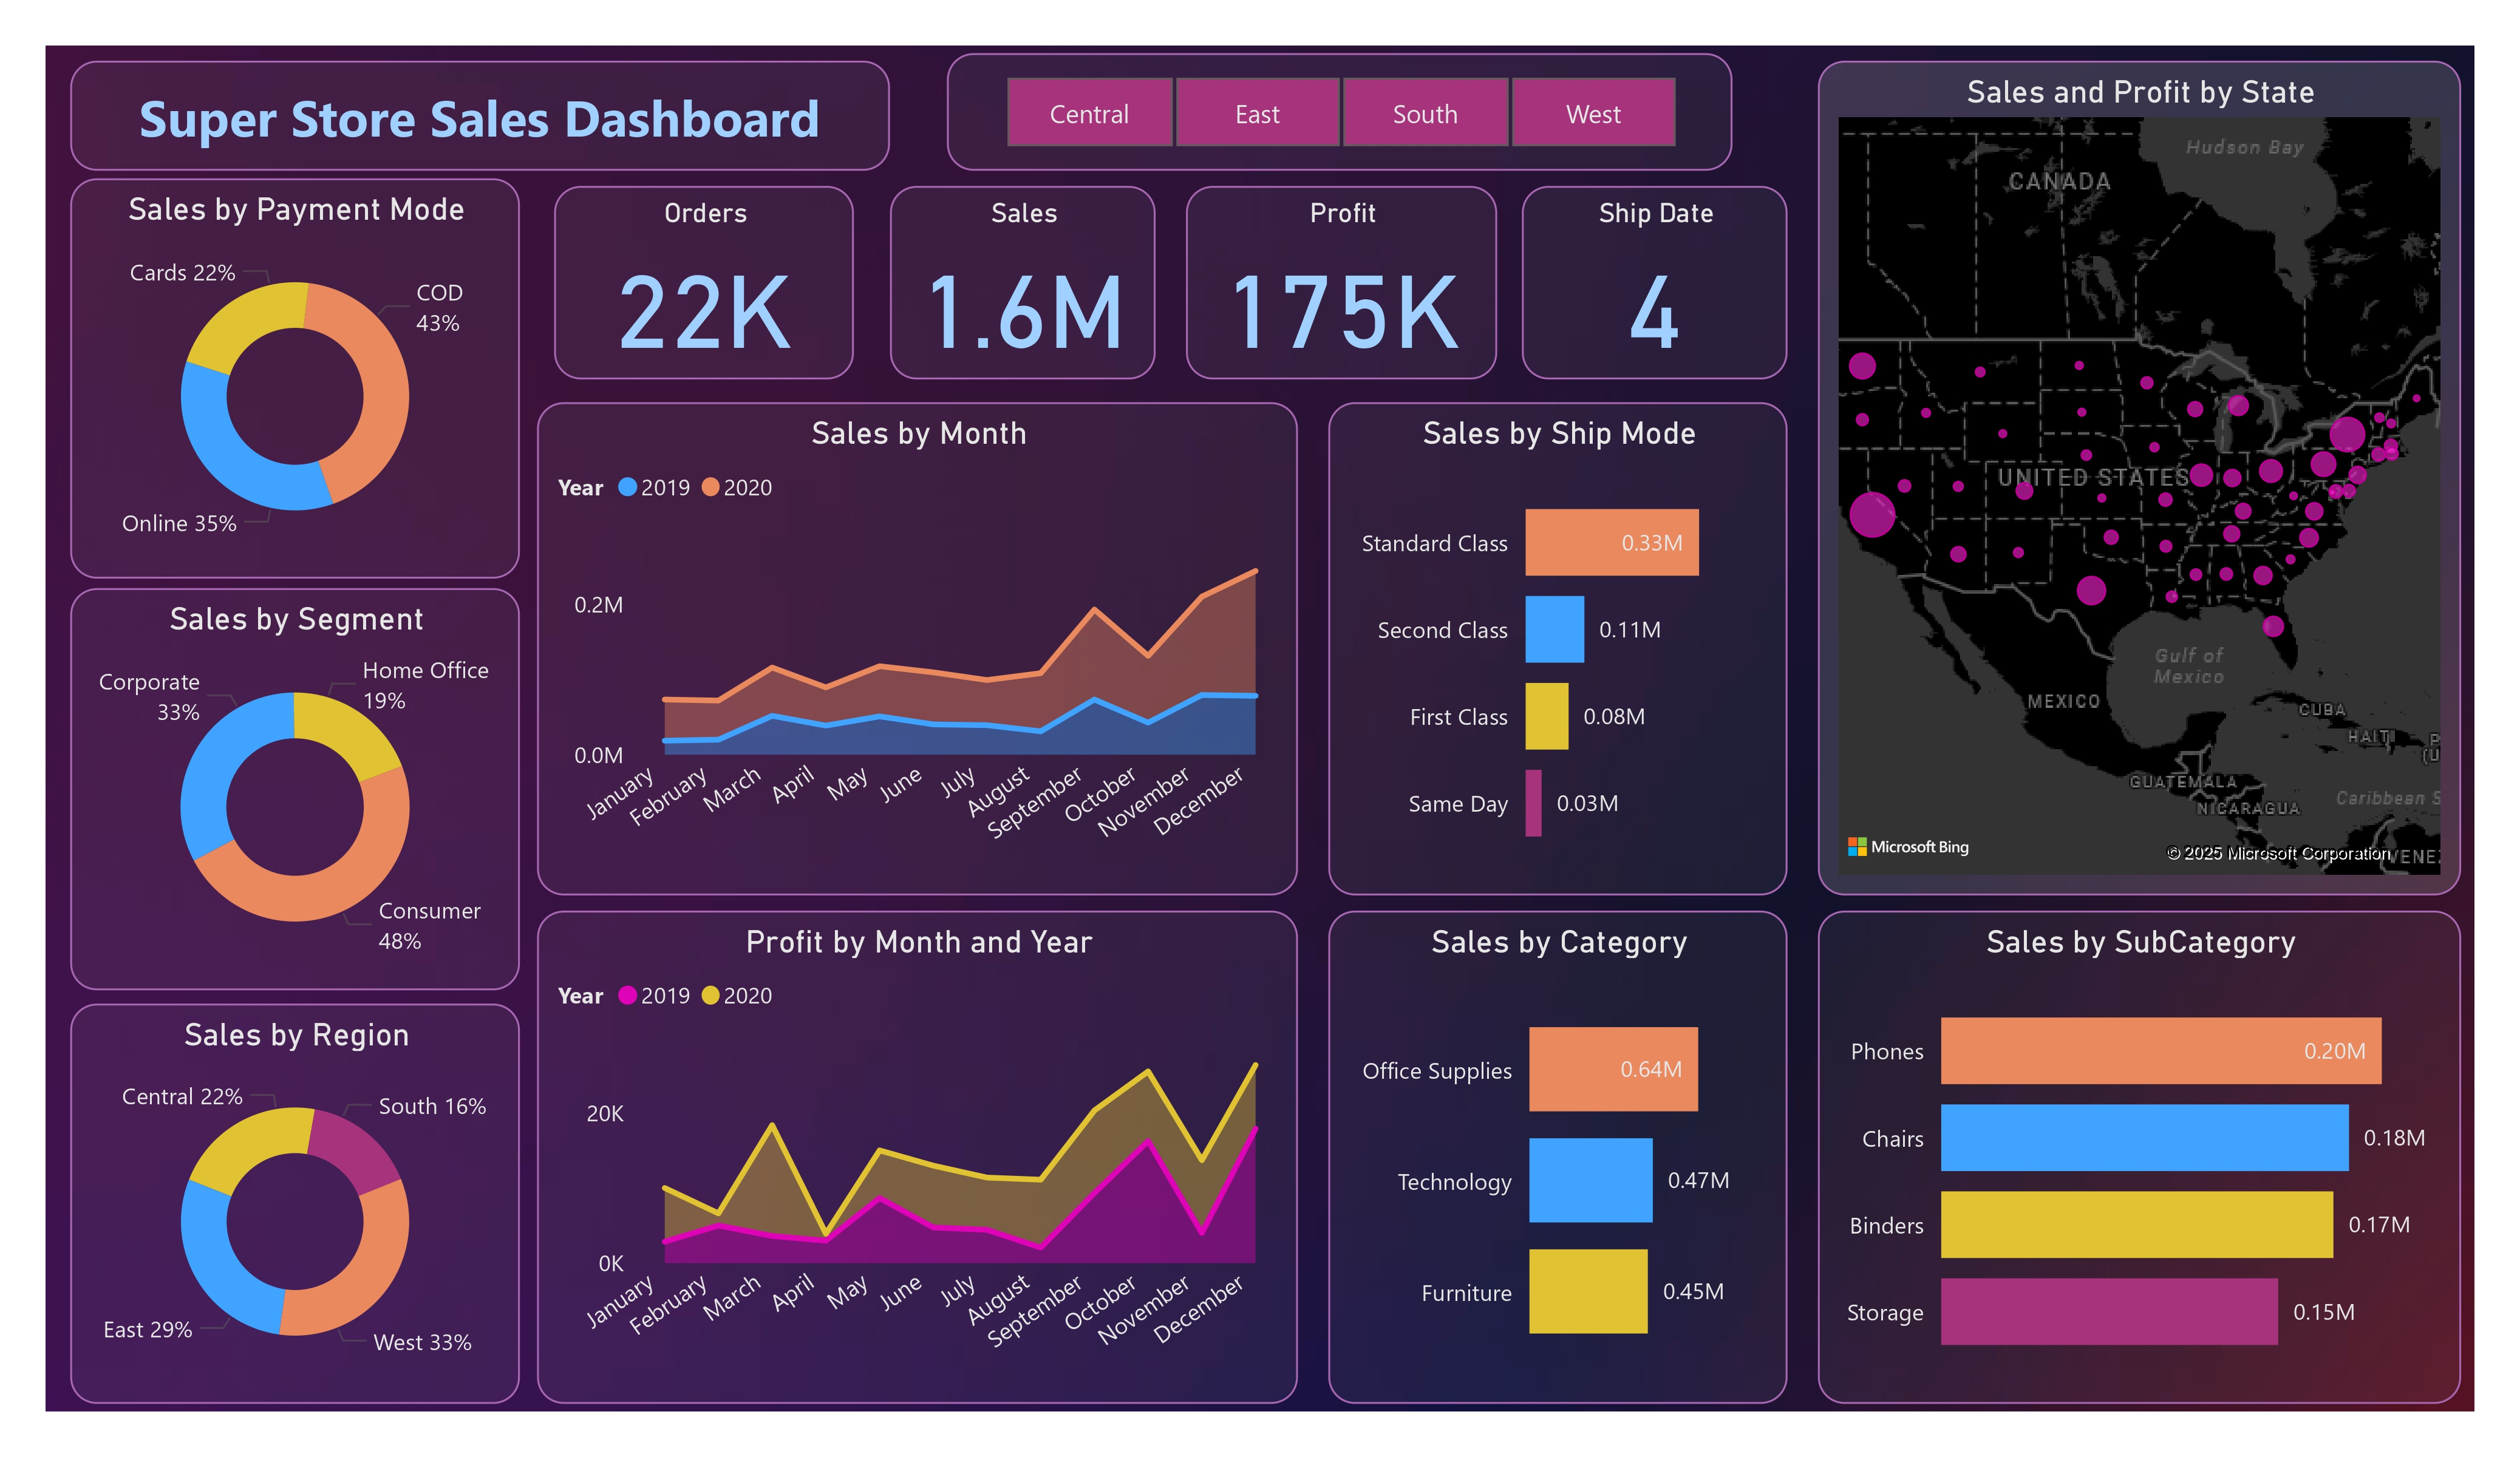

The dashboard page shown, as its layout file describes it:
{"tool":"powerbi","page":{"name":"Page 1","canvas":[1280,720],"ordinal":0},"visuals":[{"type":"clusteredBarChart","title":"Sales by Category","fields":{"Category":["SuperStore Sales DataSet.Category"],"Y":["Sum(SuperStore Sales DataSet.Sales)"]},"box":[676.2,456.2,241.2,260],"z":0},{"type":"clusteredBarChart","title":"Sales by SubCategory","fields":{"Category":["SuperStore Sales DataSet.Sub-Category"],"Y":["Sum(SuperStore Sales DataSet.Sales)"]},"box":[933.8,456.2,338.8,260],"z":1000},{"type":"clusteredBarChart","title":"Sales by Ship Mode","fields":{"Y":["Sum(SuperStore Sales DataSet.Sales)"],"Category":["SuperStore Sales DataSet.Ship Mode"]},"box":[676.2,187.5,241.2,260],"z":2000},{"type":"stackedAreaChart","title":"Sales by Month","fields":{"Y":["Sum(SuperStore Sales DataSet.Sales)"],"Category":["SuperStore Sales DataSet.Order Date.Variation.Date Hierarchy.Month","SuperStore Sales DataSet.Order Date.Variation.Date Hierarchy.Day"],"Series":["SuperStore Sales DataSet.Order Date.Variation.Date Hierarchy.Year"]},"box":[258.8,187.5,401.2,260],"z":3000},{"type":"stackedAreaChart","title":"Profit by Month and Year","fields":{"Category":["SuperStore Sales DataSet.Order Date.Variation.Date Hierarchy.Month","SuperStore Sales DataSet.Order Date.Variation.Date Hierarchy.Day"],"Series":["SuperStore Sales DataSet.Order Date.Variation.Date Hierarchy.Year"],"Y":["Sum(SuperStore Sales DataSet.Profit)"]},"box":[258.8,456.2,401.2,260],"z":4000},{"type":"map","title":"Sales and Profit by State","fields":{"Category":["SuperStore Sales DataSet.State"],"Size":["Sum(SuperStore Sales DataSet.Sales)"]},"box":[933.8,7.5,338.8,440],"z":5000},{"type":"donutChart","title":"Sales by Segment","fields":{"Category":["SuperStore Sales DataSet.Segment"],"Y":["Sum(SuperStore Sales DataSet.Sales)"]},"box":[12.5,286.2,237.5,211.2],"z":6000},{"type":"donutChart","title":"Sales by Region","fields":{"Category":["SuperStore Sales DataSet.Region"],"Y":["Sum(SuperStore Sales DataSet.Sales)"]},"box":[12.5,505,237.5,211.2],"z":7000},{"type":"donutChart","title":"Sales by Payment Mode","fields":{"Category":["SuperStore Sales DataSet.Payment Mode"],"Y":["Sum(SuperStore Sales DataSet.Sales)"]},"box":[12.5,70,237.5,211.2],"z":8000},{"type":"slicer","fields":{"Values":["SuperStore Sales DataSet.Region"]},"box":[475,3.8,413.8,62.5],"z":9000},{"type":"textbox","box":[12.5,7.5,432.5,58.8],"z":10000},{"type":"card","title":"Sales","fields":{"Values":["Sum(SuperStore Sales DataSet.Sales)"]},"box":[445,73.8,140,102.5],"z":11000},{"type":"card","title":"Orders","fields":{"Values":["Sum(SuperStore Sales DataSet.Quantity)"]},"box":[267.5,73.8,158.8,102.5],"z":12000},{"type":"card","title":"Profit","fields":{"Values":["Sum(SuperStore Sales DataSet.Profit)"]},"box":[601.2,73.8,163.8,102.5],"z":13000},{"type":"card","title":"Ship Date","fields":{"Values":["Avg(SuperStore Sales DataSet.AveDelivery)"]},"box":[777.5,73.8,140,102.5],"z":14000}]}

Visuals, with their boxes in screenshot pixels (x1, y1, x2, y2):
"Sales by Category" clusteredBarChart: bbox=(1329, 911, 1786, 1404)
"Sales by SubCategory" clusteredBarChart: bbox=(1817, 911, 2460, 1404)
"Sales by Ship Mode" clusteredBarChart: bbox=(1329, 401, 1786, 894)
"Sales by Month" stackedAreaChart: bbox=(537, 401, 1298, 894)
"Profit by Month and Year" stackedAreaChart: bbox=(537, 911, 1298, 1404)
"Sales and Profit by State" map: bbox=(1817, 59, 2460, 894)
"Sales by Segment" donutChart: bbox=(69, 588, 520, 989)
"Sales by Region" donutChart: bbox=(69, 1004, 520, 1404)
"Sales by Payment Mode" donutChart: bbox=(69, 178, 520, 579)
slicer - SuperStore Sales DataSet.Region: bbox=(947, 53, 1732, 171)
textbox: bbox=(69, 59, 890, 171)
"Sales" card: bbox=(890, 186, 1156, 380)
"Orders" card: bbox=(553, 186, 854, 380)
"Profit" card: bbox=(1187, 186, 1497, 380)
"Ship Date" card: bbox=(1521, 186, 1786, 380)
